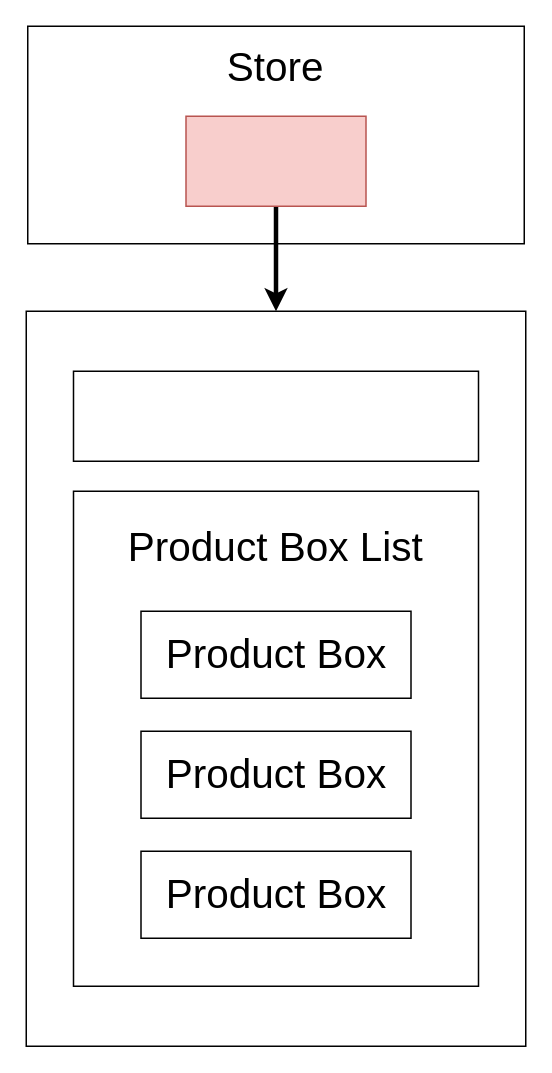
This 552x1073 diagram has some shape labels left out. Here are the shapes that lost their labels. From the top down, the box of each, then its label:
(184, 115, 366, 206): items
(72, 370, 478, 461): Navbar
